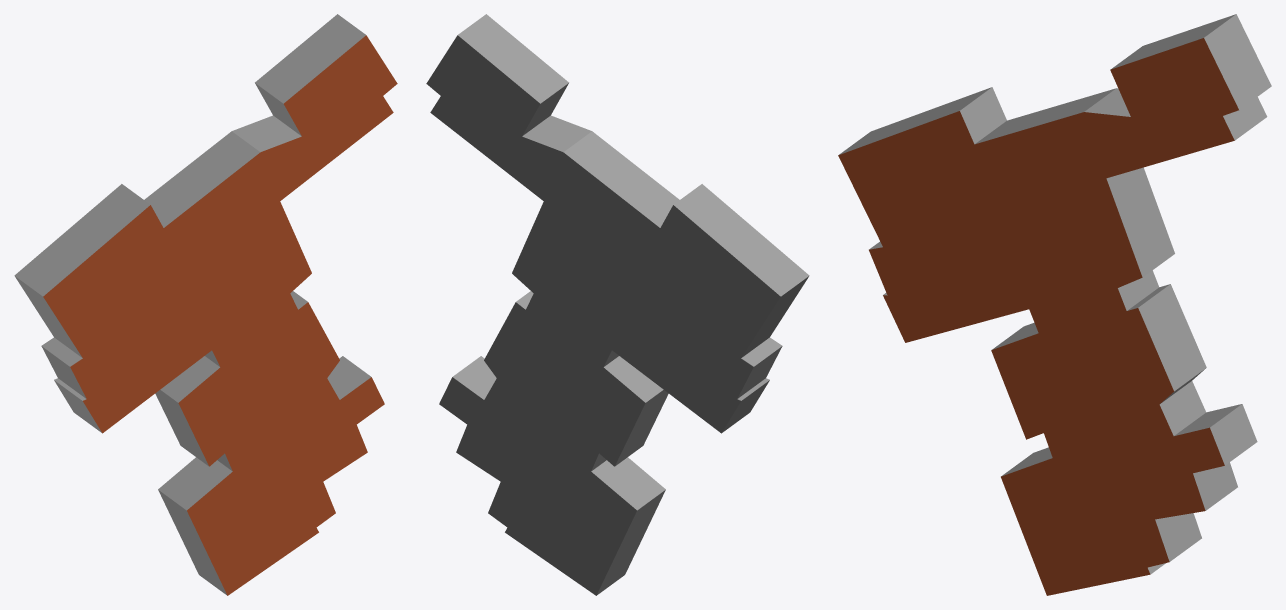
Rendered from construction_2829_assumed_A_Casa_h6m.obj.
The picture shows the model from 3 angles, left to right: view 1: azimuth 30°, elevation 25°; view 2: azimuth 150°, elevation 25°; view 3: azimuth 330°, elevation 25°; orthographic projection. The views are drawn at different scales.
Parts seen in each view (by area): view 1: construction_2829_assumed_A_Casa; view 2: construction_2829_assumed_A_Casa; view 3: construction_2829_assumed_A_Casa.
Part boxes in pixels (left/top/right/bottom): construction_2829_assumed_A_Casa: left=14, top=14, right=397, bottom=595; construction_2829_assumed_A_Casa: left=426, top=14, right=809, bottom=595; construction_2829_assumed_A_Casa: left=838, top=14, right=1271, bottom=595.
Size of the model in its own units: 42.63 by 60.56 by 6.
